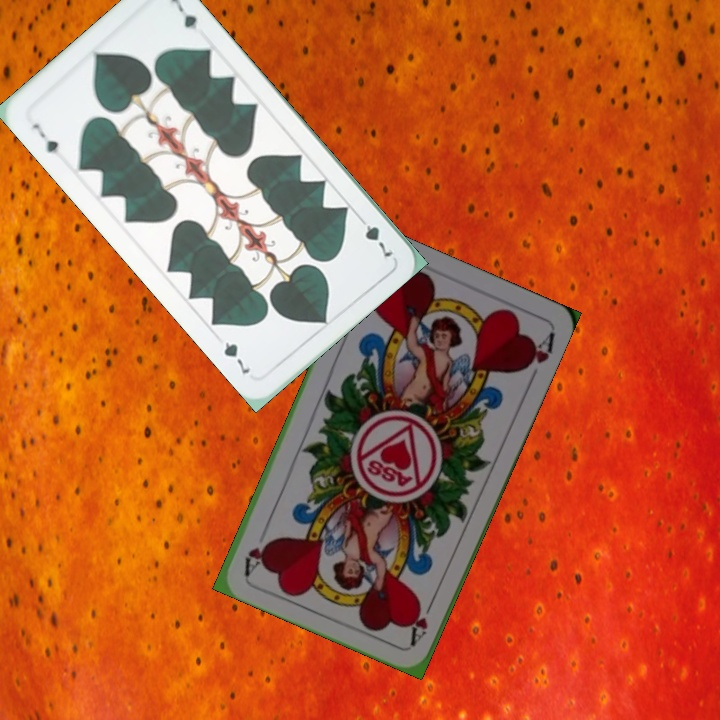G7: (353, 211, 395, 262), (28, 119, 61, 157)
HA: (406, 592, 438, 648)
